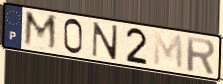0: (62, 18, 84, 56)
2: (124, 27, 149, 67)
M: (22, 9, 59, 54), (152, 30, 185, 72)
N: (90, 20, 120, 62)
R: (185, 35, 217, 76)
